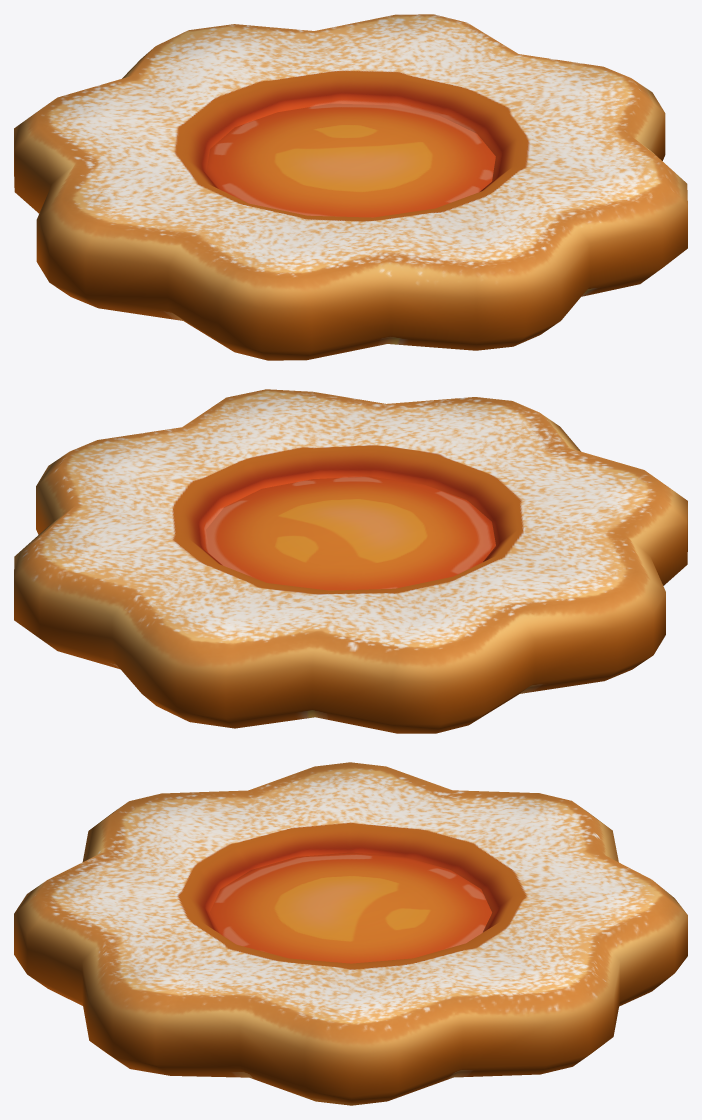
The model's file is Cookie_Flower.fbx.
The picture shows the model from 3 angles, top to bottom: view 1: azimuth 30°, elevation 25°; view 2: azimuth 150°, elevation 25°; view 3: azimuth 270°, elevation 25°; orthographic projection. The views are drawn at different scales.
Parts seen in each view (by area): view 1: Cookie_Flower; view 2: Cookie_Flower; view 3: Cookie_Flower.
Boxes of the visible parts, x1,y1,x2,y2 form: Cookie_Flower: [14, 14, 687, 360]; Cookie_Flower: [14, 389, 687, 733]; Cookie_Flower: [14, 762, 687, 1105].
Bounding box in the file's own units: 36.6 × 4.94 × 36.6.
